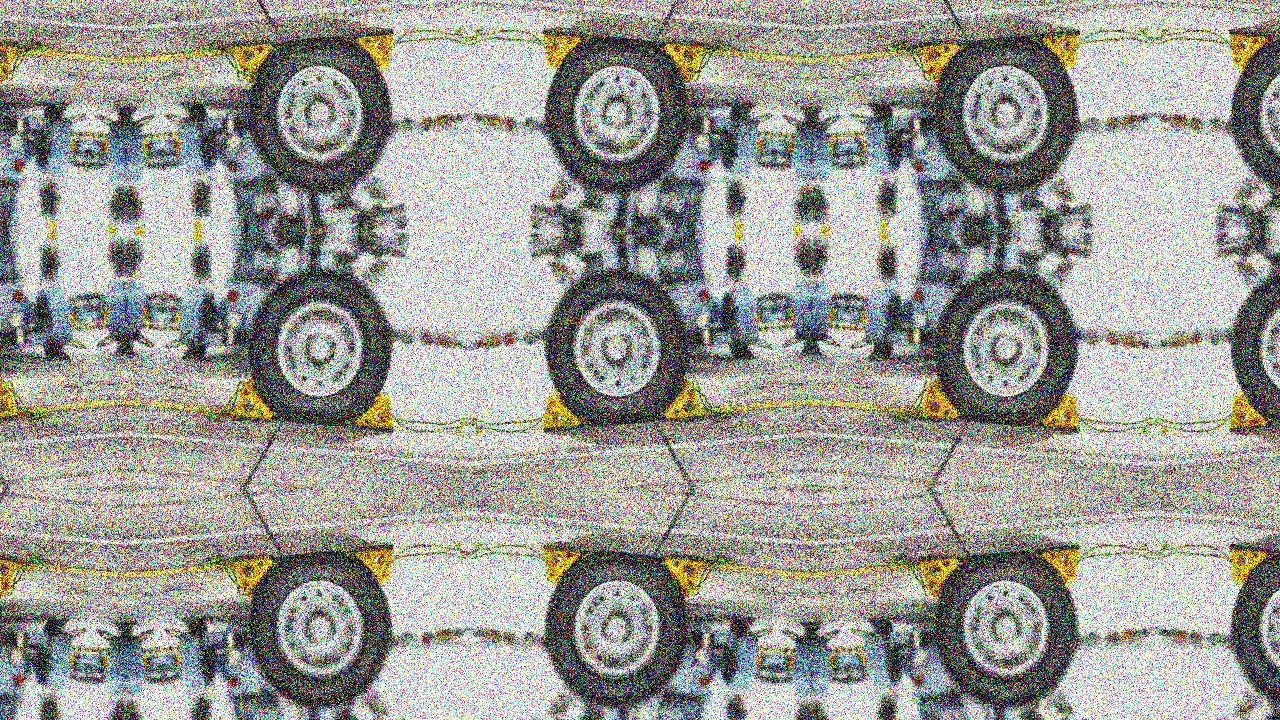chock: (231, 40, 279, 85), (918, 40, 966, 85), (231, 377, 279, 422), (918, 377, 966, 422), (231, 555, 279, 600), (918, 555, 966, 600), (539, 30, 585, 76), (539, 386, 585, 432), (539, 545, 585, 591), (658, 40, 705, 85), (658, 377, 705, 422), (658, 555, 705, 600), (352, 30, 397, 76), (1039, 30, 1084, 76), (1226, 30, 1271, 76), (352, 386, 397, 432), (1039, 386, 1084, 432), (1226, 386, 1271, 432), (352, 545, 397, 591), (1039, 545, 1084, 591), (1226, 545, 1271, 591), (0, 40, 19, 85), (0, 377, 19, 422), (0, 555, 19, 600)
wheel: (540, 32, 692, 197), (540, 265, 692, 430), (540, 548, 692, 712), (245, 32, 396, 197), (932, 32, 1083, 197), (245, 265, 396, 430), (932, 265, 1083, 430), (245, 548, 396, 712), (932, 548, 1083, 712), (1227, 32, 1280, 197), (1227, 265, 1280, 430), (1227, 548, 1280, 712), (43, 104, 62, 121), (188, 104, 207, 121), (730, 104, 749, 121), (874, 104, 893, 121), (43, 341, 62, 358), (188, 341, 207, 358), (730, 341, 749, 358), (874, 341, 893, 358), (43, 619, 62, 636), (188, 619, 207, 636), (730, 619, 749, 636), (874, 619, 893, 636)
